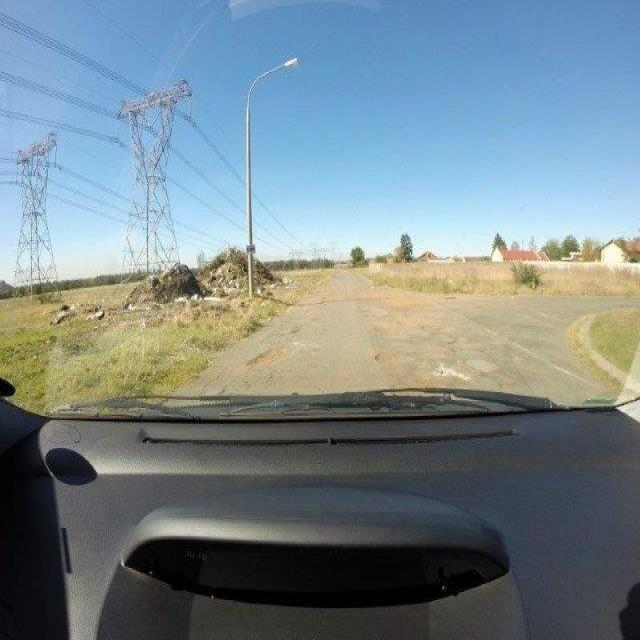lubang: (242, 340, 293, 374), (427, 356, 464, 384), (371, 348, 403, 366), (444, 336, 460, 352)
